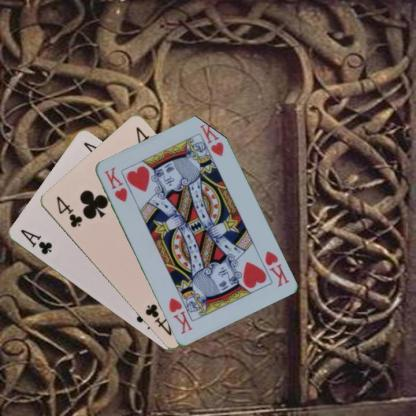4c: (53, 193, 84, 229)
Ac: (17, 226, 53, 256)
Kh: (262, 248, 290, 288), (101, 164, 129, 203)
